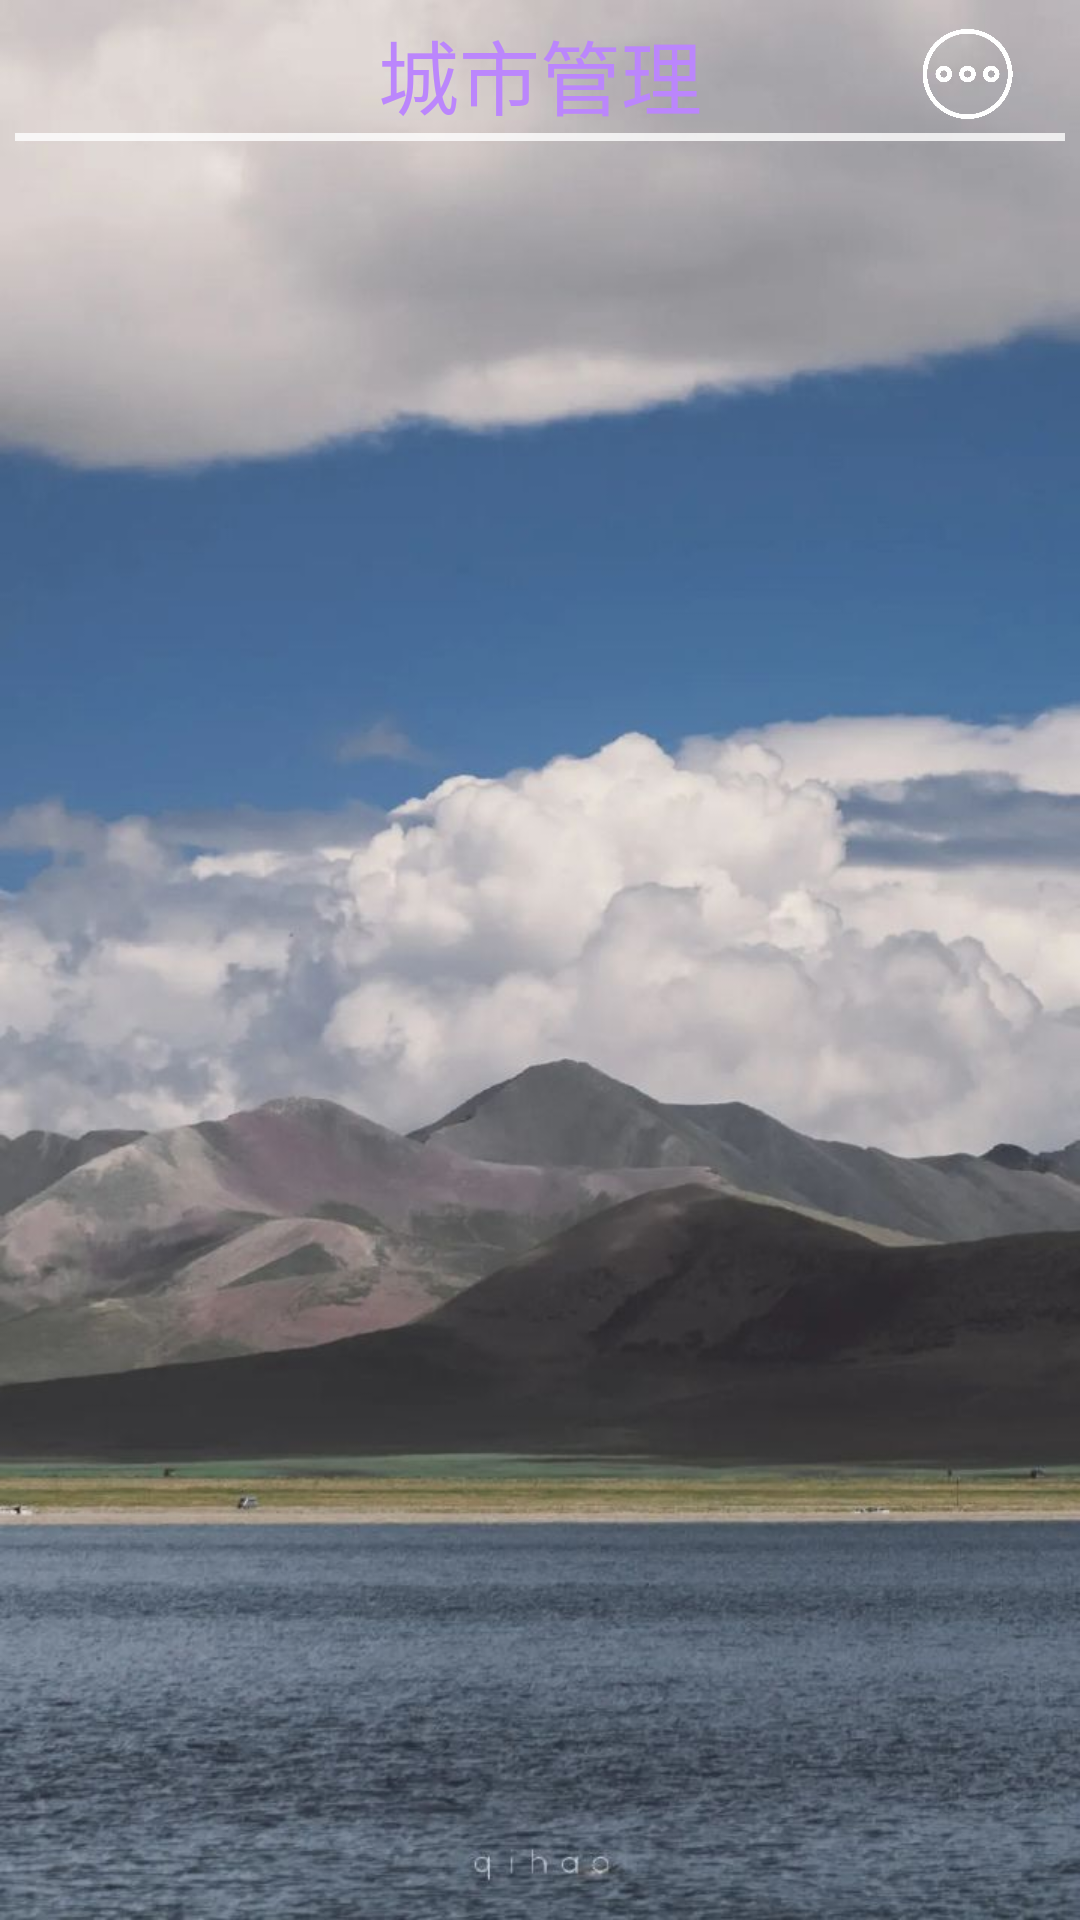

Named icons in this screenshot (1080×1920) and their centers, point (x, y):
more: point (968, 74)
